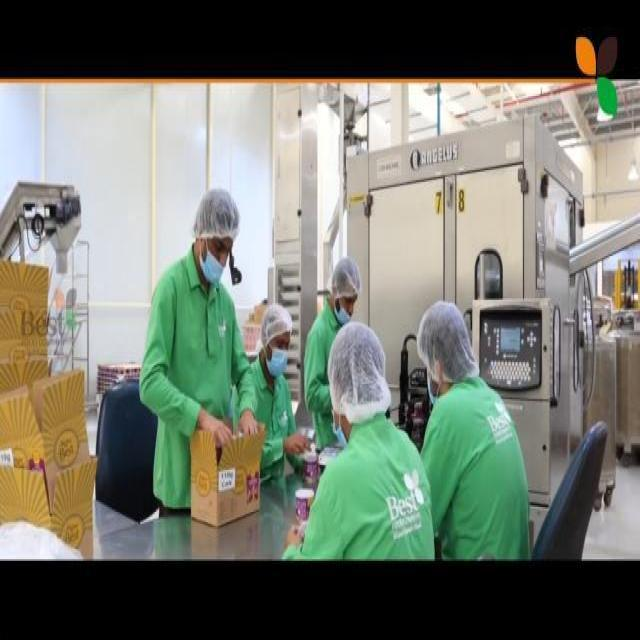bare_hand: (191, 404, 234, 451), (235, 399, 262, 446), (280, 428, 313, 458)
